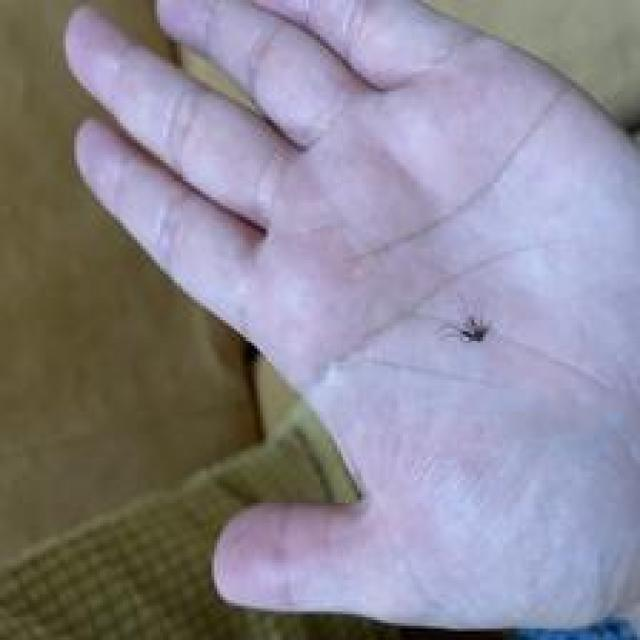Aedes albopictus: (437, 313, 492, 344)
